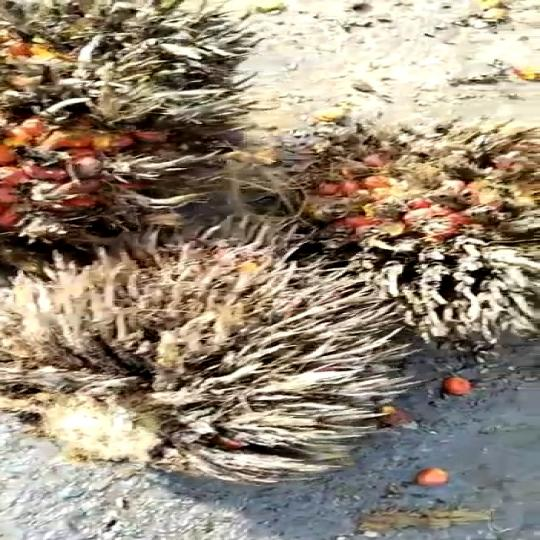terlalu masak: (0, 239, 416, 488), (222, 122, 540, 349)
